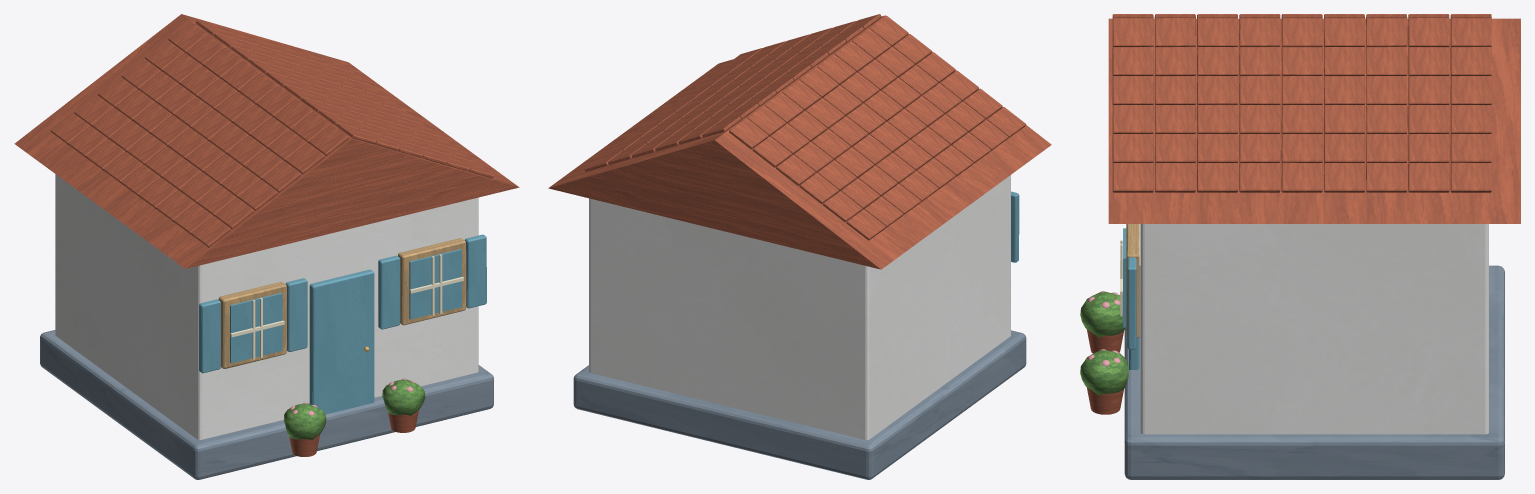
The model's file is house.glb.
3 renders of one model, left to right at view 1: azimuth 30°, elevation 25°; view 2: azimuth 150°, elevation 25°; view 3: azimuth 270°, elevation 25°, orthographic. The views are drawn at different scales.
Parts seen in each view (by area): view 1: house; view 2: house; view 3: house.
Part boxes in pixels (bbox=[...]): house: bbox=[14, 14, 519, 479]; house: bbox=[548, 14, 1051, 479]; house: bbox=[1080, 14, 1520, 479].
Bounding box in the file's own units: 4.4 × 3.95 × 4.17.
Materials: 1 (1 with a texture image).
